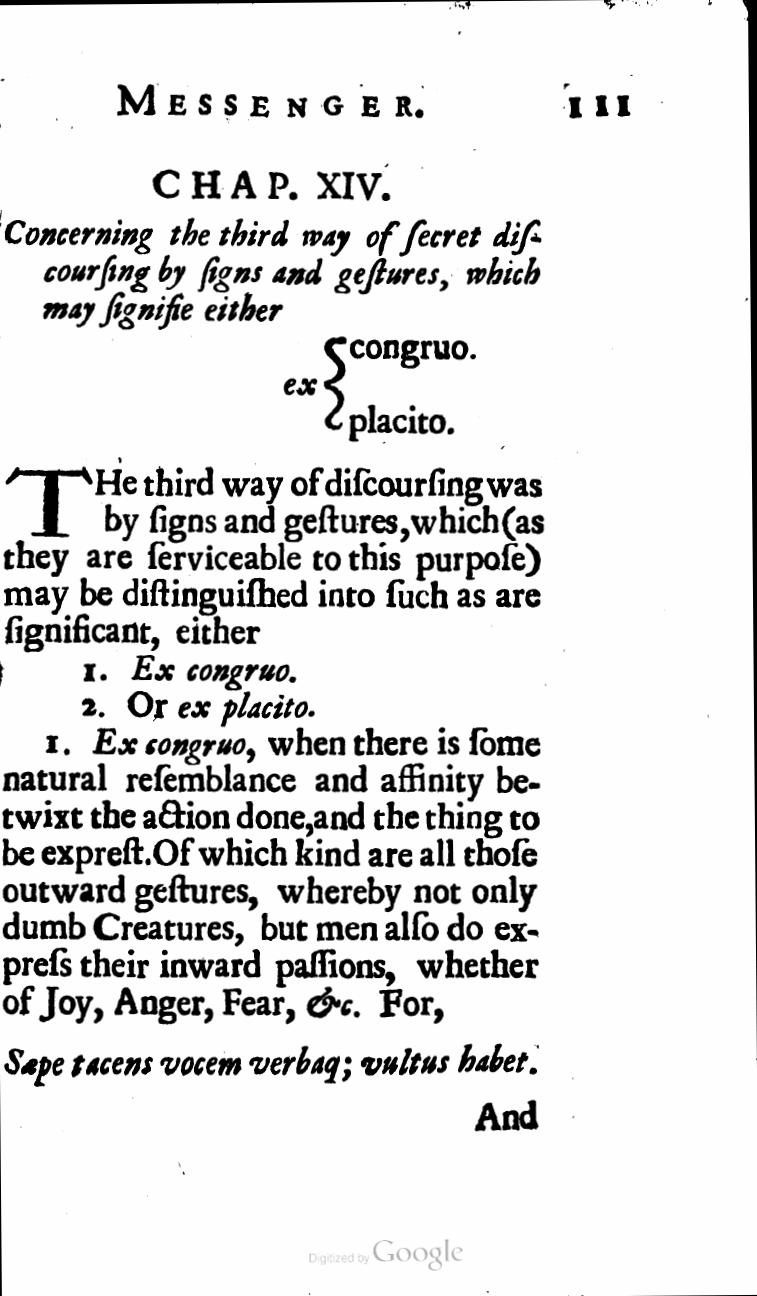catchword: (475, 1102, 543, 1135)
footnotes: (3, 1045, 537, 1085)
full_p: (2, 463, 543, 653), (2, 215, 543, 328), (80, 655, 317, 723), (147, 163, 393, 205)
header: (117, 78, 428, 125)
page_num: (563, 90, 633, 120)
text_viz: (280, 328, 480, 447)
top_p: (2, 730, 543, 1023)
